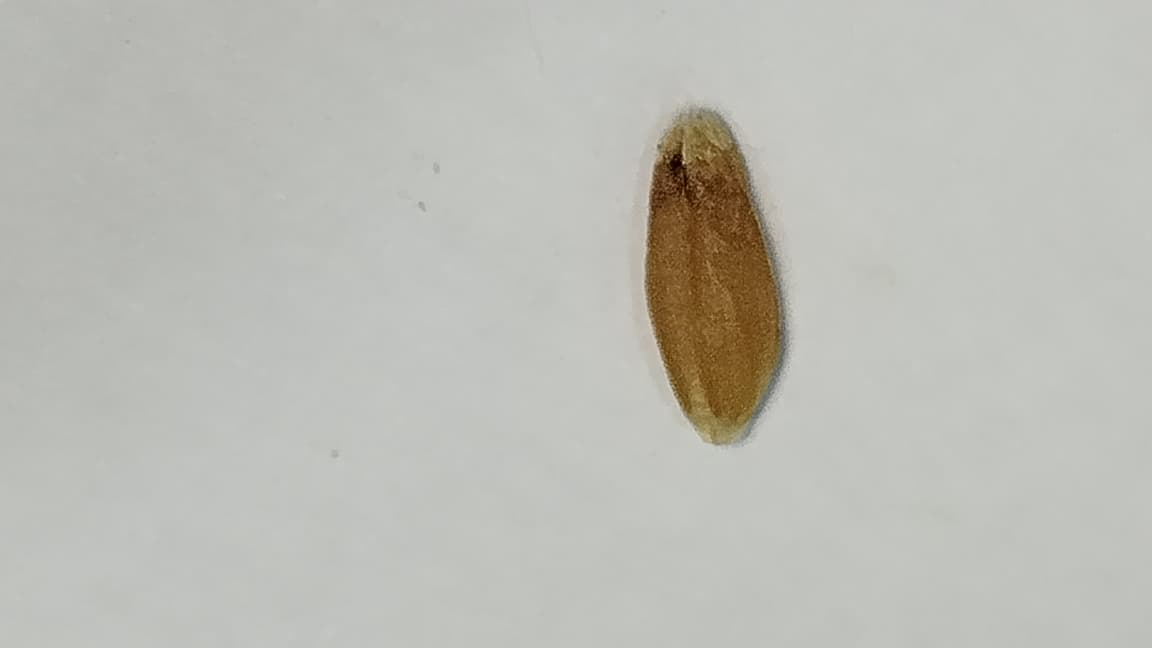black_point: (657, 151, 722, 237)
healthy: (646, 111, 783, 442)
